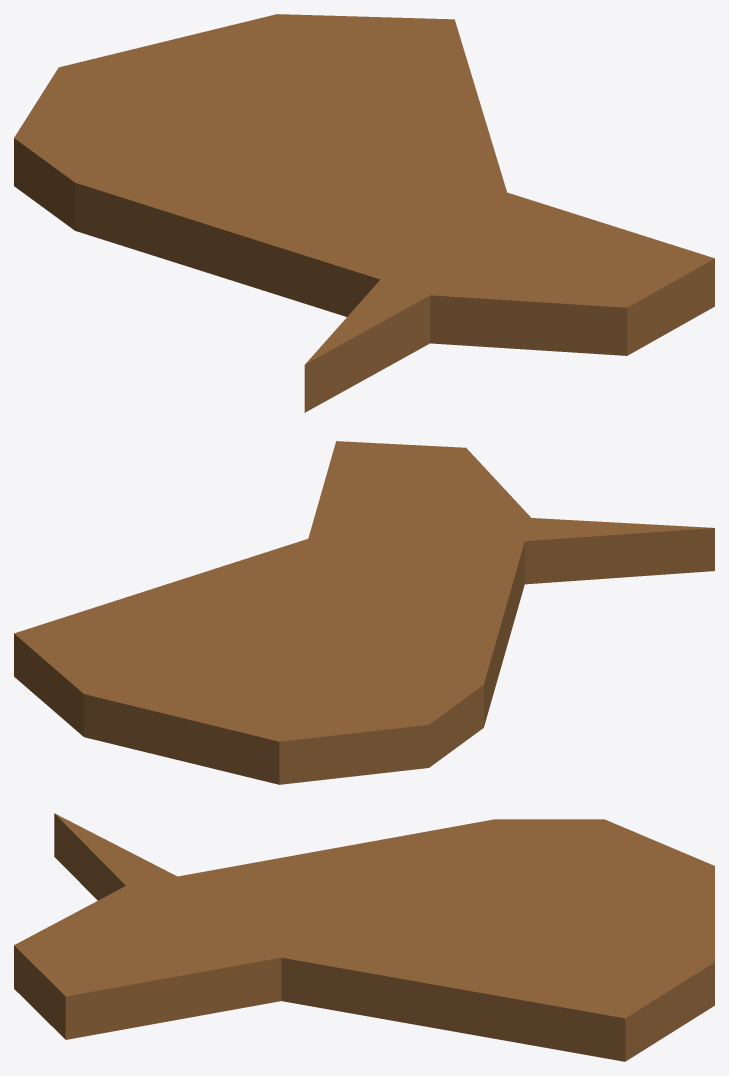
File: x_proval_00_247_1_rmstrd.fbx
3 views of the same model, one above another, from view 1: azimuth 30°, elevation 25°; view 2: azimuth 150°, elevation 25°; view 3: azimuth 270°, elevation 25° (orthographic). The views are drawn at different scales.
Parts seen in each view (by area): view 1: x_proval_00_247_1_rmstrd1; view 2: x_proval_00_247_1_rmstrd1; view 3: x_proval_00_247_1_rmstrd1.
Boxes of the visible parts, x1=… form: x_proval_00_247_1_rmstrd1: x1=14, y1=14, x2=714, y2=412; x_proval_00_247_1_rmstrd1: x1=14, y1=441, x2=714, y2=784; x_proval_00_247_1_rmstrd1: x1=14, y1=813, x2=714, y2=1061.
Size of the model in its own units: 2.03 by 0.2 by 2.92.
